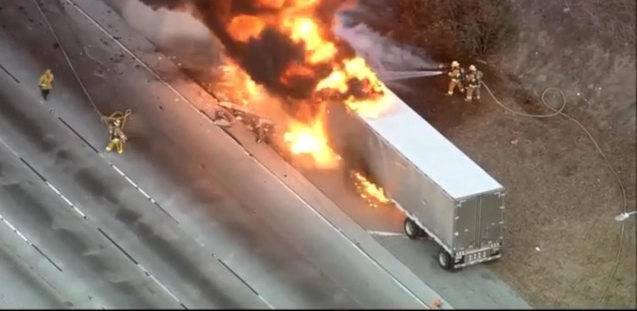喷灌水雾: (374, 68, 441, 81)
